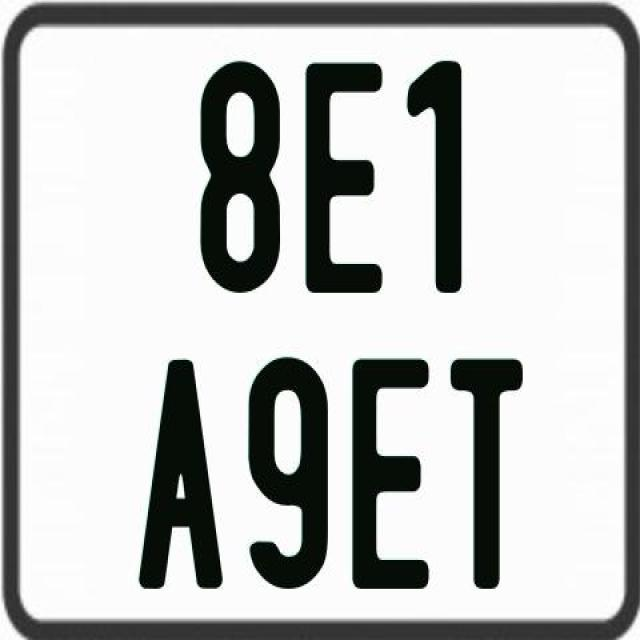1: (406, 56, 464, 296)
8: (200, 58, 280, 290)
9: (244, 354, 324, 586)
A: (136, 357, 227, 592)
E: (304, 62, 384, 298), (348, 357, 430, 587)
T: (450, 356, 528, 594)
